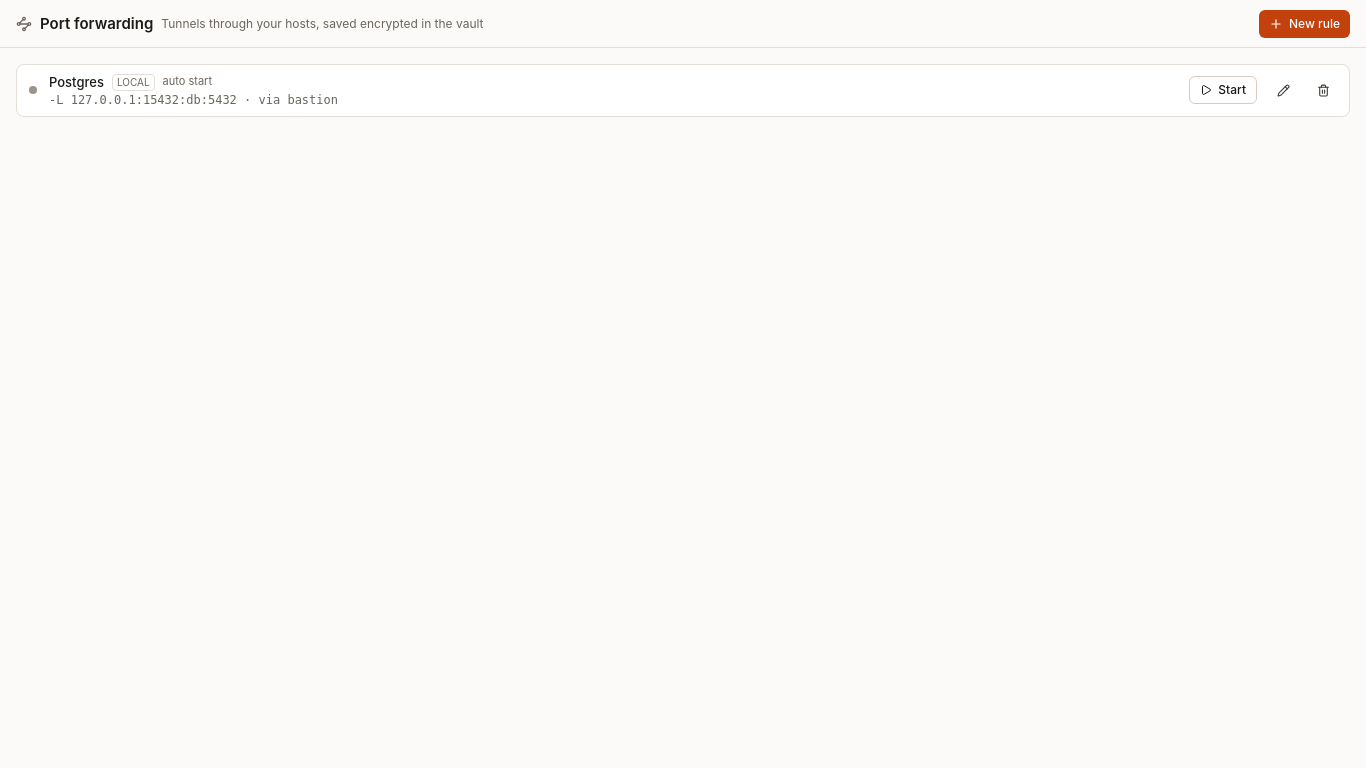
Test: ForwardsView › edits a rule with its saved values and shows server-side errors
Click the button named "Edit Postgres". click: (1283, 90)
box: [1269,76,1297,104]
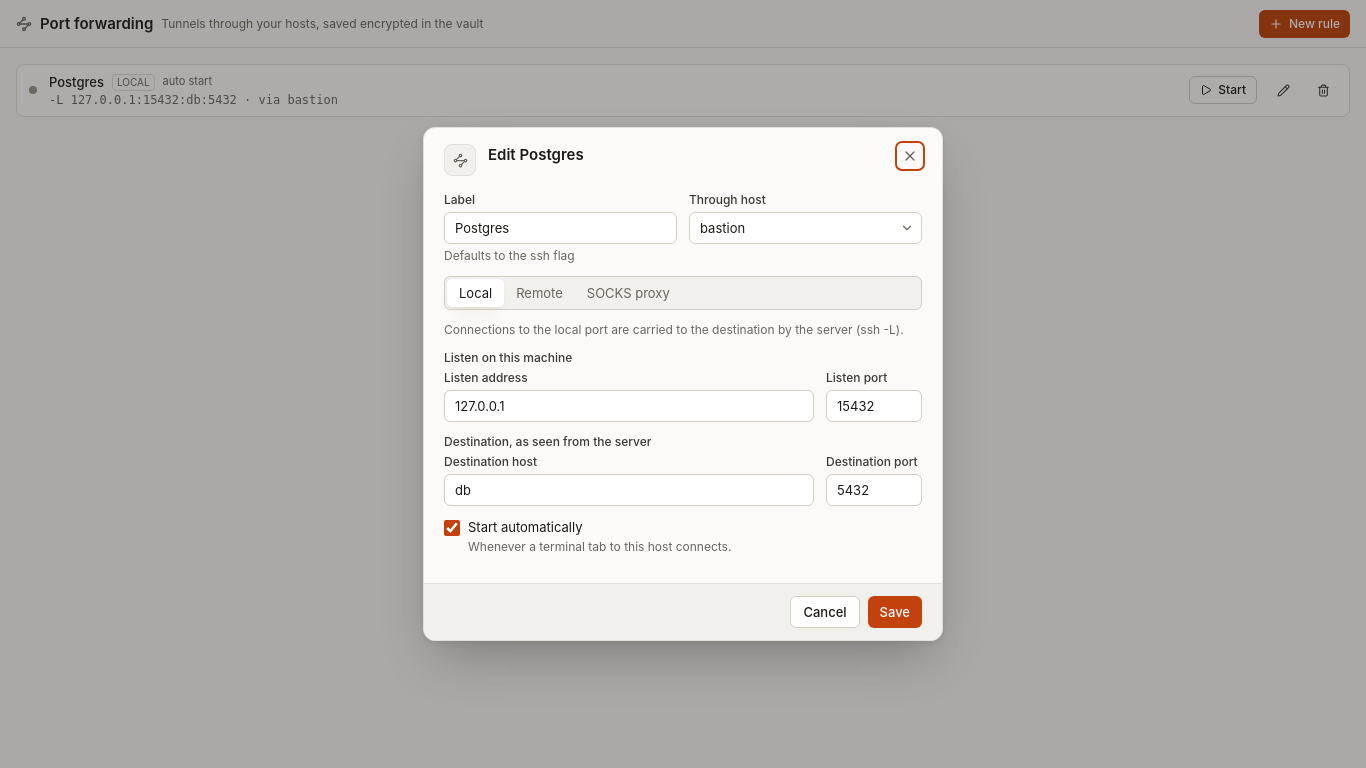
Result: the field labelled "Destination host" holds "db" at [444,474,814,506]
Result: the checkbox labelled "Start automatically" is checked at [444,520,460,536]
Click the button "Save". click: (895, 612)
box: [868,596,922,628]
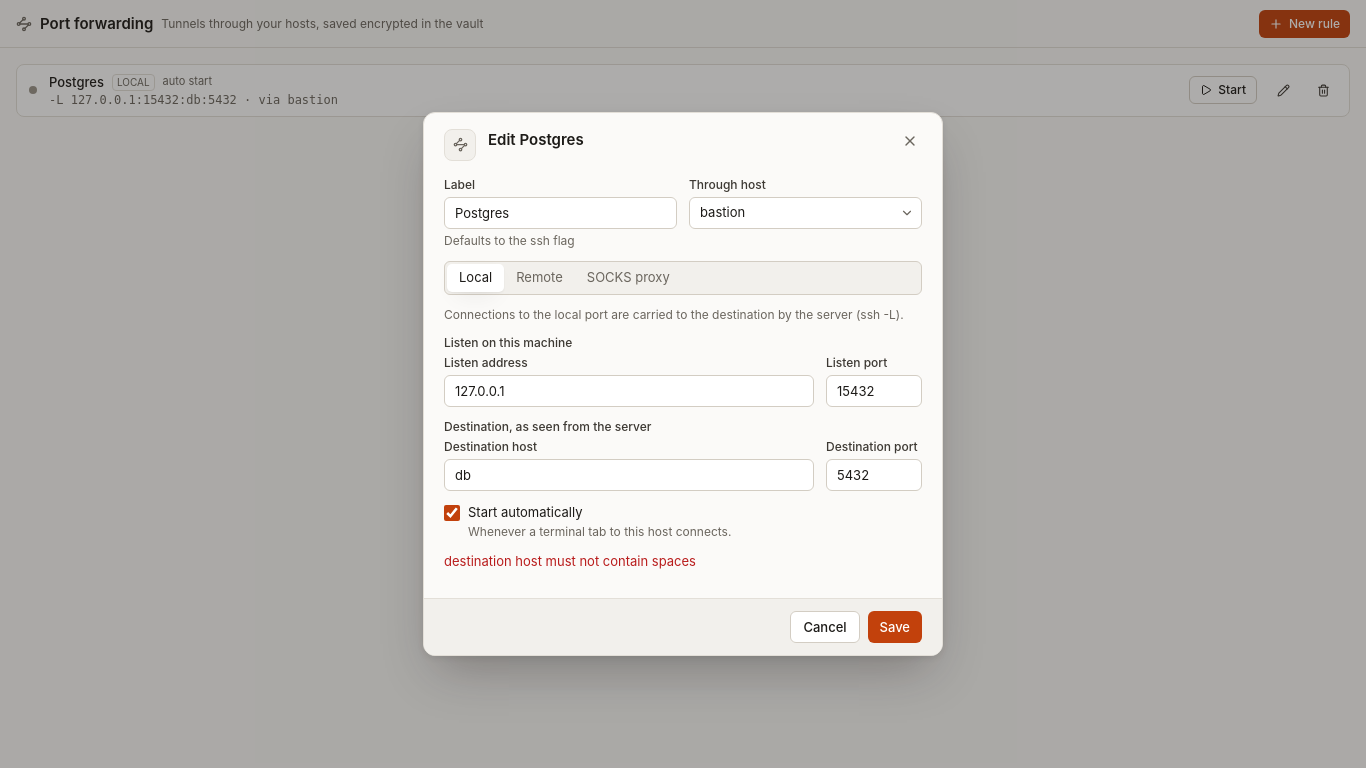
Result: the message shows "must not contain spaces" at [444,552,696,568]
